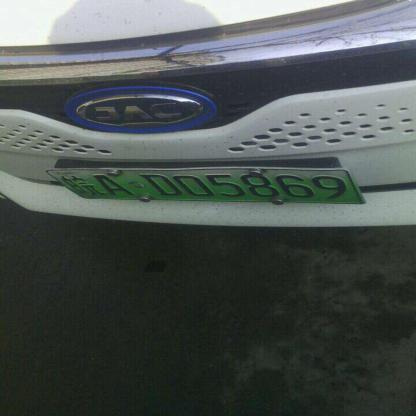lp: (46, 168, 82, 204)
